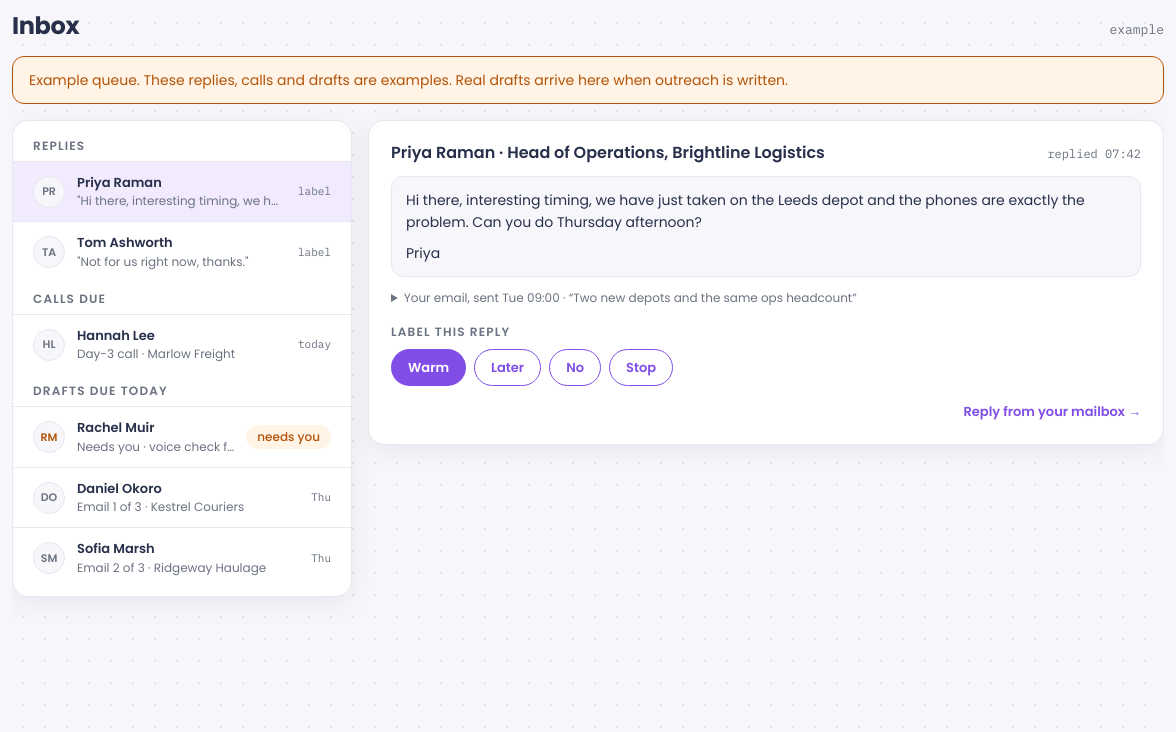
the queue › selects the new last row when the last one is worked
Step 1. Click the button with test id "queue-row" → point(182, 558), box 13,528 -> 351,588
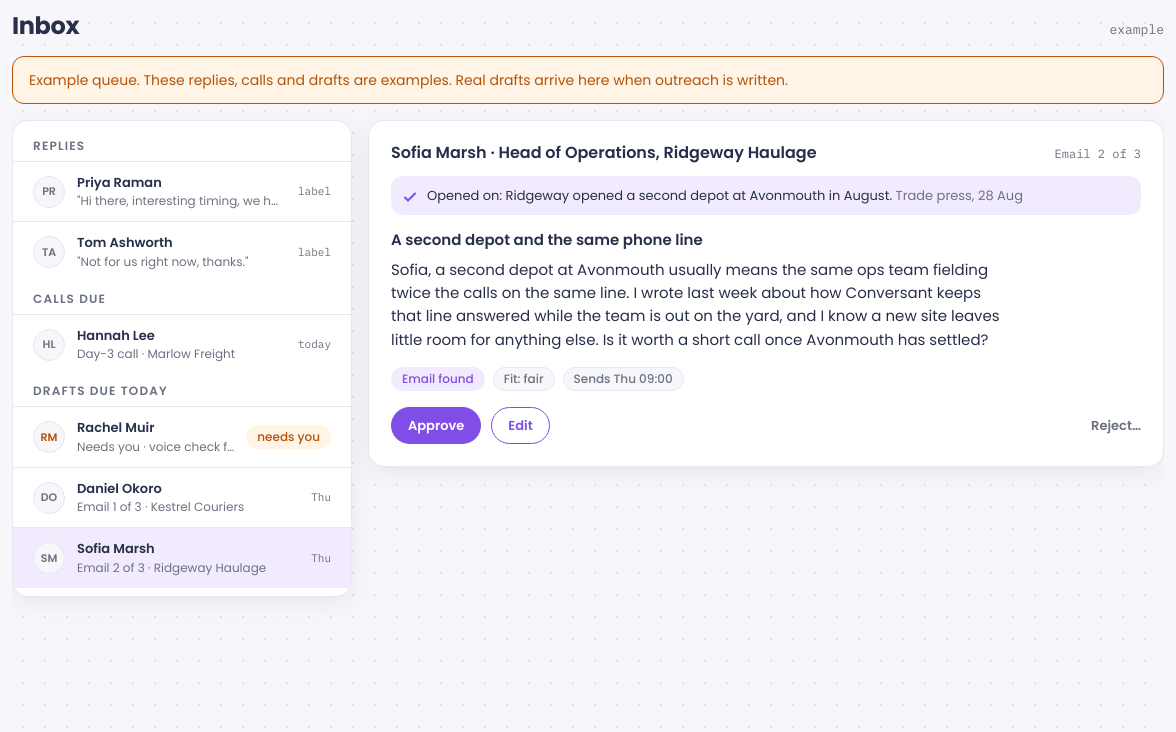
Step 2. Click the button "Approve" → point(436, 426), box 391,407 -> 481,444
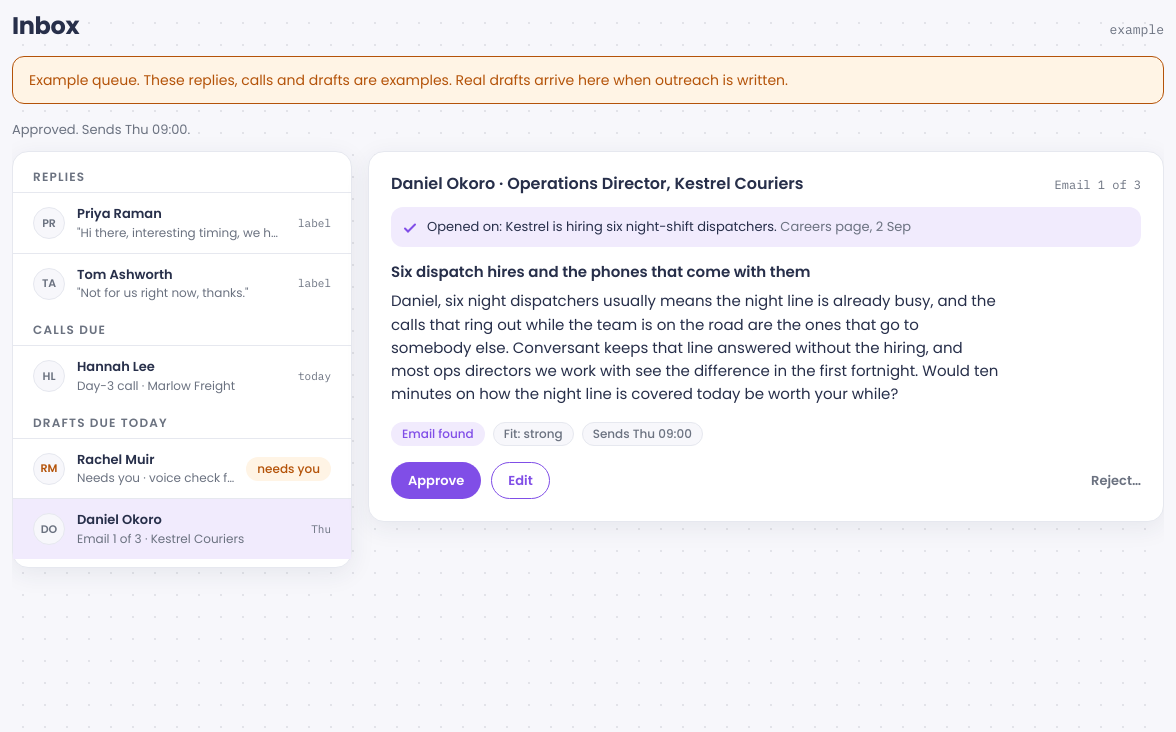
Expected: the text with class "font-semibold" reads "Daniel Okoro", 77,510 -> 162,530
Now the number of buttons with test id "queue-row" is 5, box 13,192 -> 351,253; 13,253 -> 351,314; 13,346 -> 351,406; 13,438 -> 351,498; 13,498 -> 351,559
